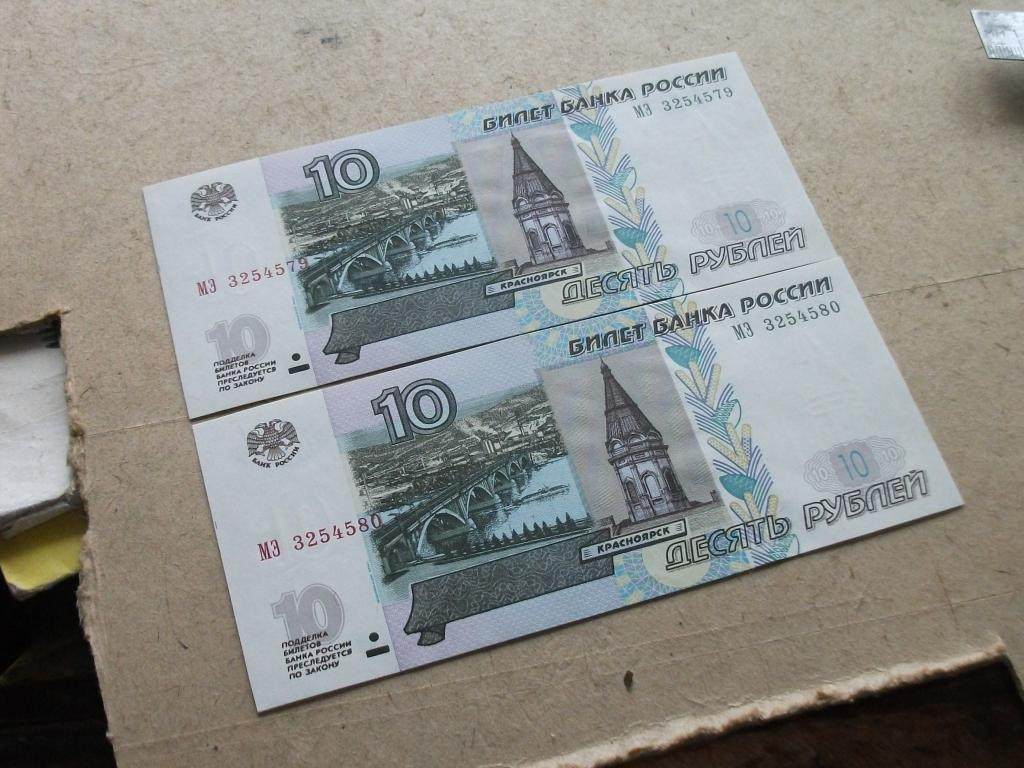cash: (193, 257, 964, 714), (142, 42, 837, 421)
